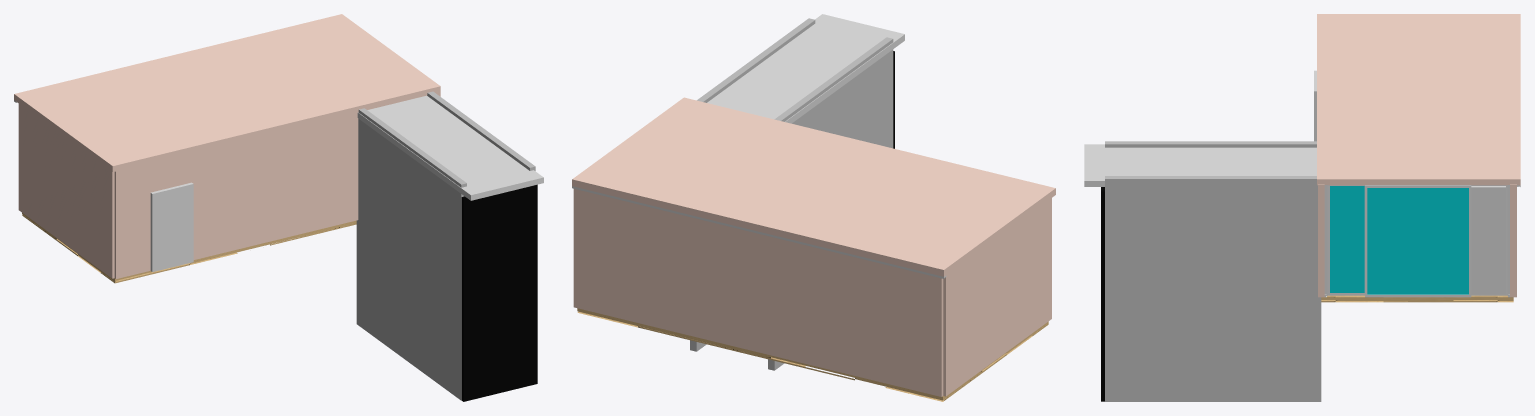
Rendered from Map.fbx.
The picture shows the model from 3 angles, left to right: view 1: azimuth 30°, elevation 25°; view 2: azimuth 150°, elevation 25°; view 3: azimuth 270°, elevation 25°; orthographic projection. The views are drawn at different scales.
Parts seen in each view (by area): view 1: 큐브.004, 큐브.003, Cube.003, Cube.009, 큐브, Cube.007, Cube.002, Cube, Cube.005; view 2: 큐브.004, 큐브.001, 큐브, Cube.007, Cube.003, Cube, Cube.005; view 3: Cube.005, 큐브.004, Cube.015, Cube.007, Cube.011, Cube.012, Cube.003, Cube, Cube.009, 큐브.001, 큐브.003, Cube.014.
Part boxes in pixels (left/top/right/bottom): 큐브.004: left=14, top=14, right=440, bottom=171; 큐브.003: left=114, top=92, right=440, bottom=278; Cube.003: left=356, top=108, right=466, bottom=400; Cube.009: left=461, top=184, right=537, bottom=401; 큐브: left=18, top=103, right=114, bottom=278; Cube.007: left=357, top=95, right=543, bottom=200; Cube.002: left=150, top=182, right=193, bottom=271; Cube: left=22, top=213, right=356, bottom=283; Cube.005: left=427, top=91, right=535, bottom=170; 큐브.004: left=572, top=97, right=1055, bottom=278; 큐브.001: left=573, top=189, right=943, bottom=396; 큐브: left=943, top=198, right=1051, bottom=396; Cube.007: left=707, top=14, right=904, bottom=123; Cube.003: left=768, top=37, right=893, bottom=370; Cube: left=577, top=308, right=1048, bottom=401; Cube.005: left=690, top=18, right=815, bottom=351; Cube.005: left=1105, top=176, right=1321, bottom=401; 큐브.004: left=1317, top=14, right=1520, bottom=186; Cube.015: left=1330, top=186, right=1468, bottom=294; Cube.007: left=1084, top=144, right=1316, bottom=186; Cube.011: left=1471, top=186, right=1505, bottom=294; Cube.012: left=1327, top=185, right=1507, bottom=297; Cube.003: left=1105, top=141, right=1316, bottom=147; Cube: left=1321, top=295, right=1513, bottom=302; Cube.009: left=1101, top=187, right=1104, bottom=401; 큐브.001: left=1508, top=184, right=1516, bottom=297; 큐브.003: left=1318, top=184, right=1326, bottom=297; Cube.014: left=1324, top=185, right=1327, bottom=295.
Size of the model in its own units: 122 by 78.38 by 136.
